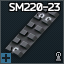P226 Sight Mount 220-239 rear sight bearing: (0, 0, 64, 64)
